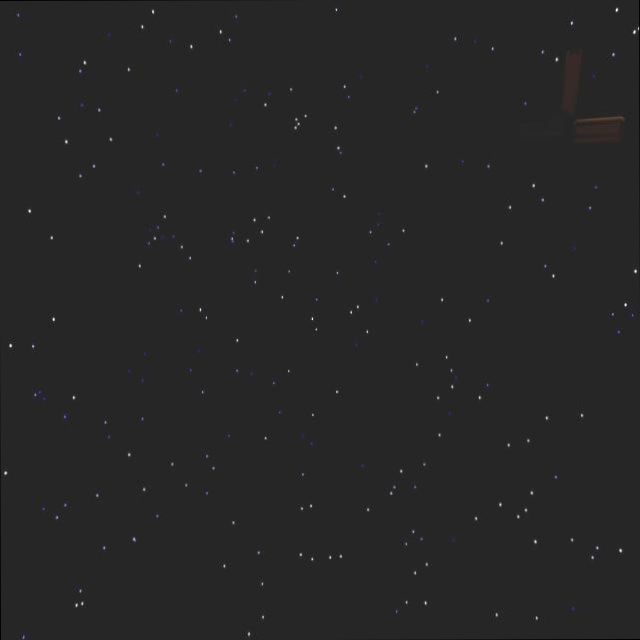medium_debris: (559, 46, 629, 161)
